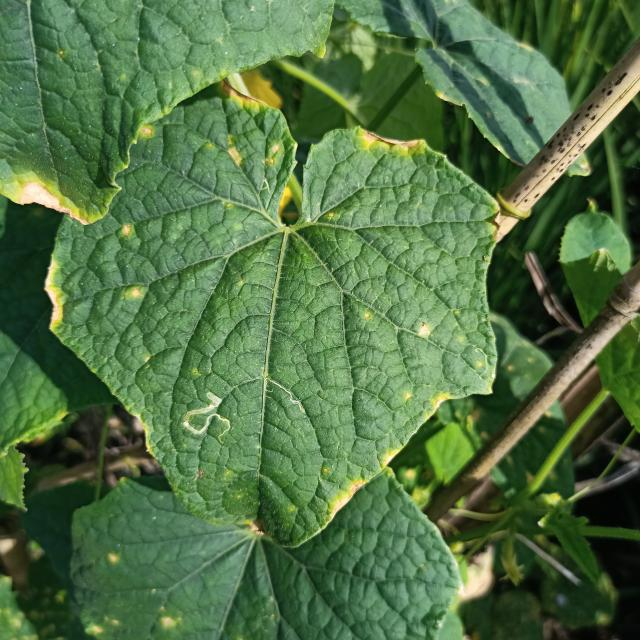disease_cucumber: (225, 136, 281, 173), (401, 388, 454, 413), (418, 322, 442, 340), (120, 222, 136, 241), (128, 285, 144, 300)
